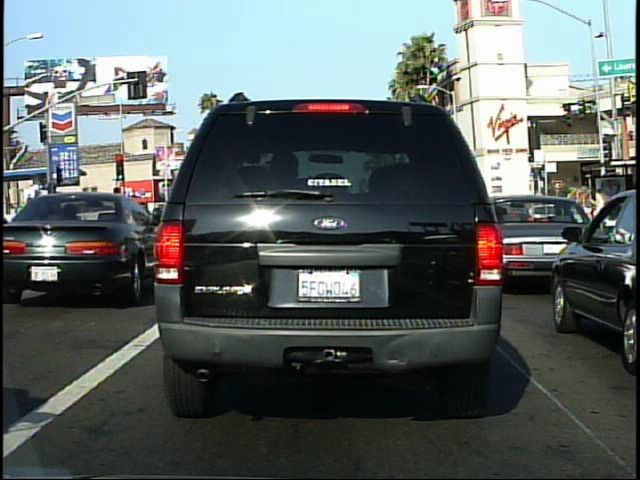person: (588, 184, 610, 241)
